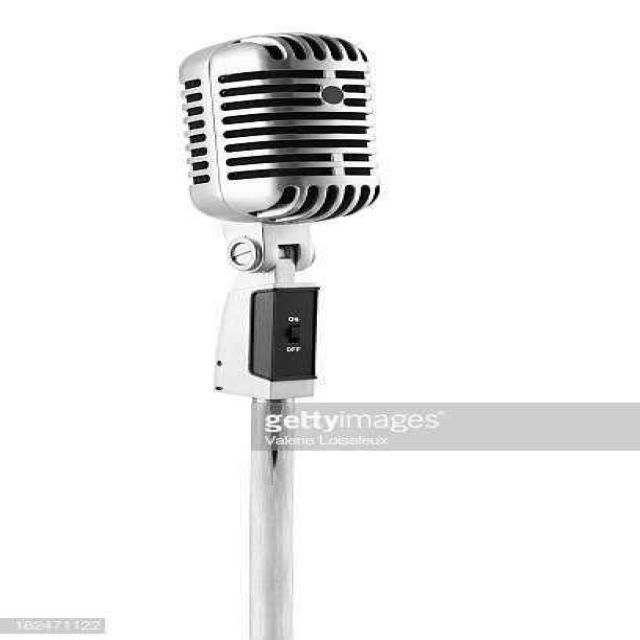microphone: (177, 33, 383, 227)
